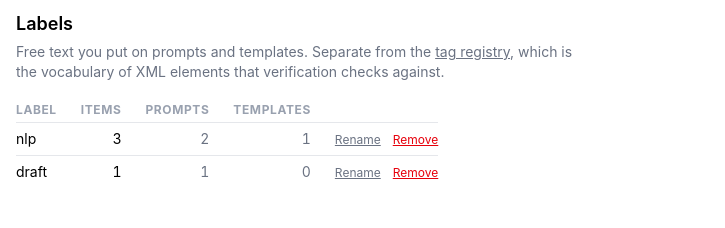
Test: Labels › removes when confirmed
Click the button with aria-label "Remove nlp". click: click(416, 140)
box: [393,132,438,148]
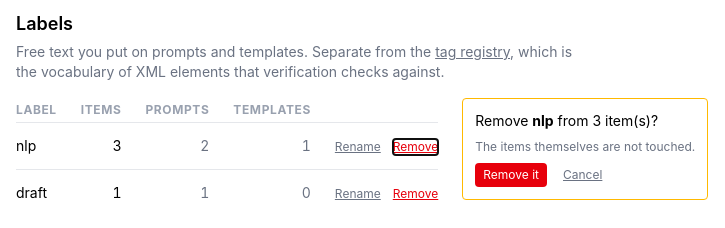
Click the button "Remove it". click: click(511, 175)
box: [475,163,547,187]
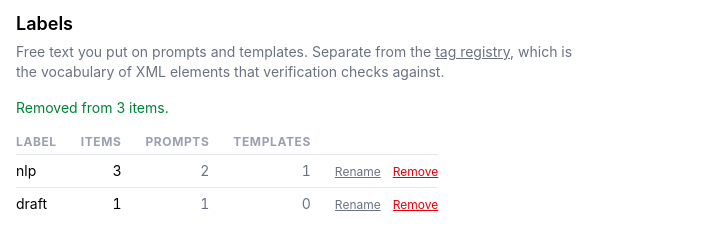
Expected: the text "Removed from 3 items." is shown, [16,99,169,116]
